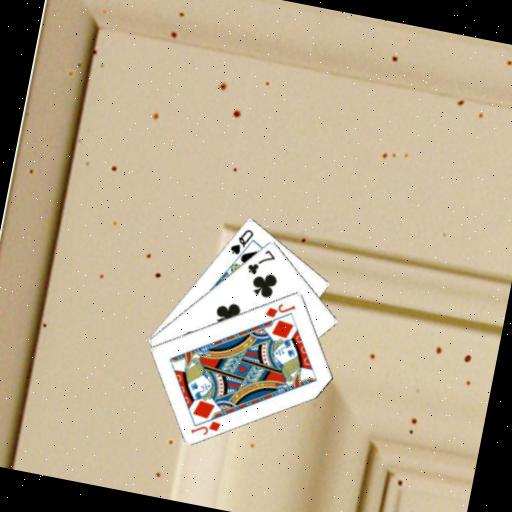7C: (243, 243, 278, 280)
JD: (187, 413, 224, 440), (262, 297, 298, 323)
QS: (226, 223, 257, 259)
